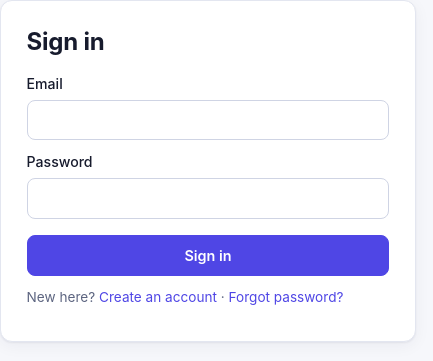
it: AuthPage sign in › disables the button while the request is in flight
In the field labelled "Email": (208, 120) [27,100,389,140], type "me@example.com"
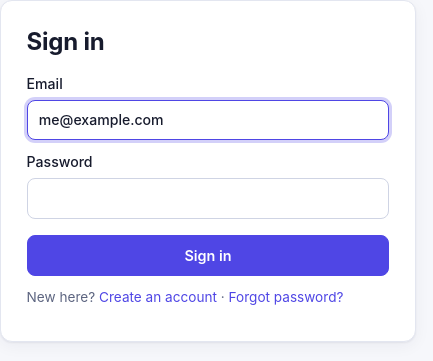
In the password field labelled "Password": (208, 198) [27,178,389,219], type "whatever"
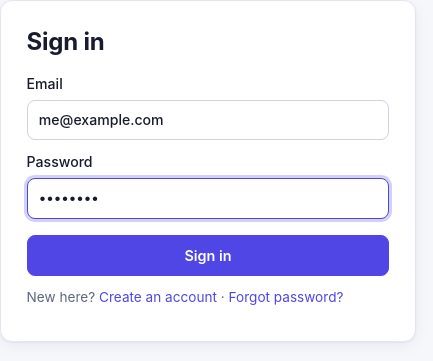
Click the button "Sign in": (208, 256) [27,235,389,276]
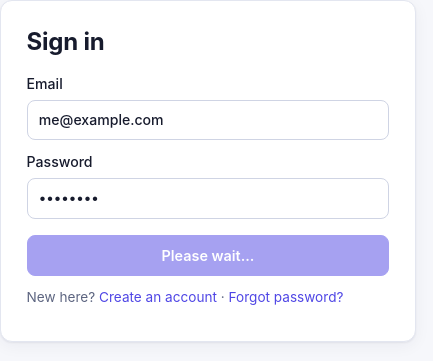
expect the button "Please wait..." is disabled: met, box [27,235,389,276]
